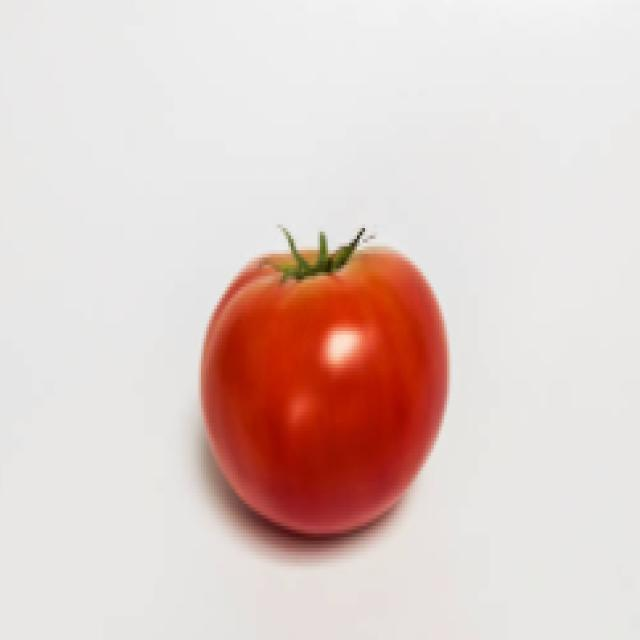Tomato: (208, 228, 448, 530)
